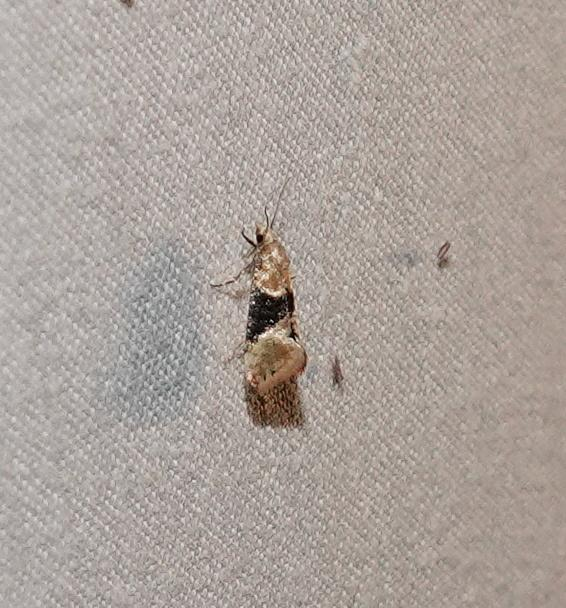Eupoecilia Ambiguella: (207, 173, 346, 431)
